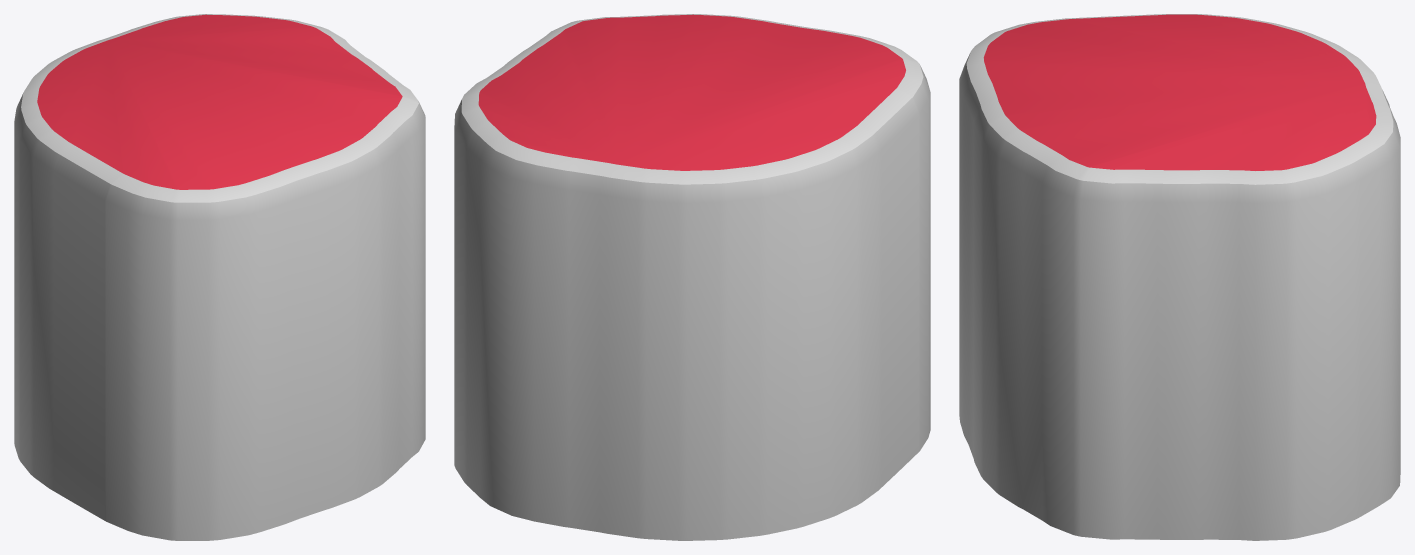
Rendered from table_showroom.fbx.
3 renders of one model, left to right at view 1: azimuth 30°, elevation 25°; view 2: azimuth 150°, elevation 25°; view 3: azimuth 270°, elevation 25°, orthographic. The views are drawn at different scales.
Parts seen in each view (by area): view 1: Circle; view 2: Circle; view 3: Circle.
Part boxes in pixels (left/top/right/bottom): Circle: left=14, top=14, right=425, bottom=540; Circle: left=454, top=14, right=930, bottom=540; Circle: left=959, top=14, right=1400, bottom=540.
Bounding box in the file's own units: 200 × 189 × 210.
